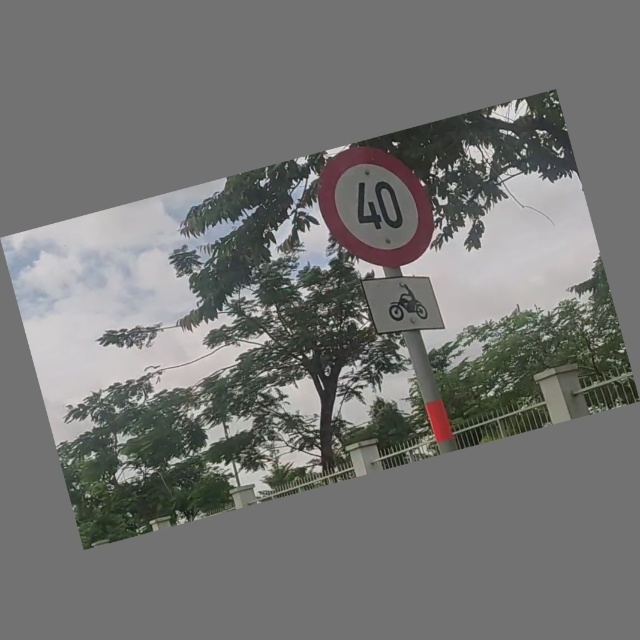P.127*40: (305, 129, 452, 286)
S.505a*Xe may: (355, 259, 455, 353)
